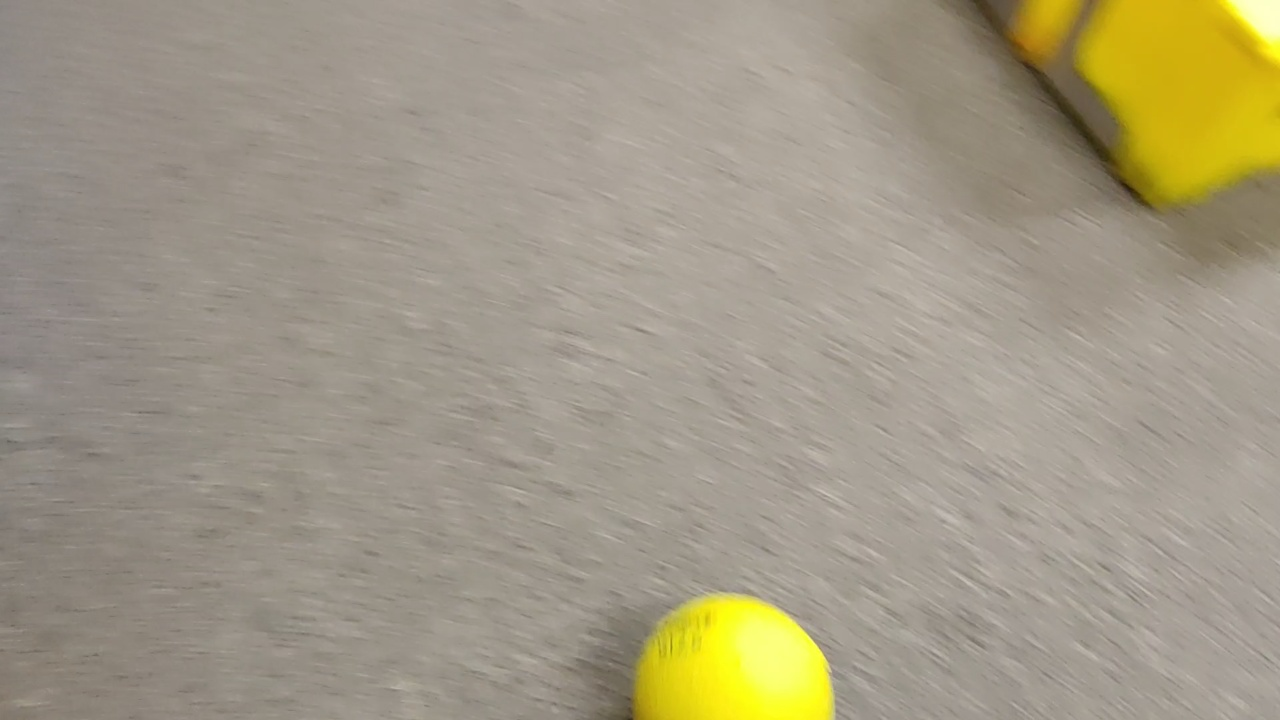Ball: (630, 594, 837, 720)
